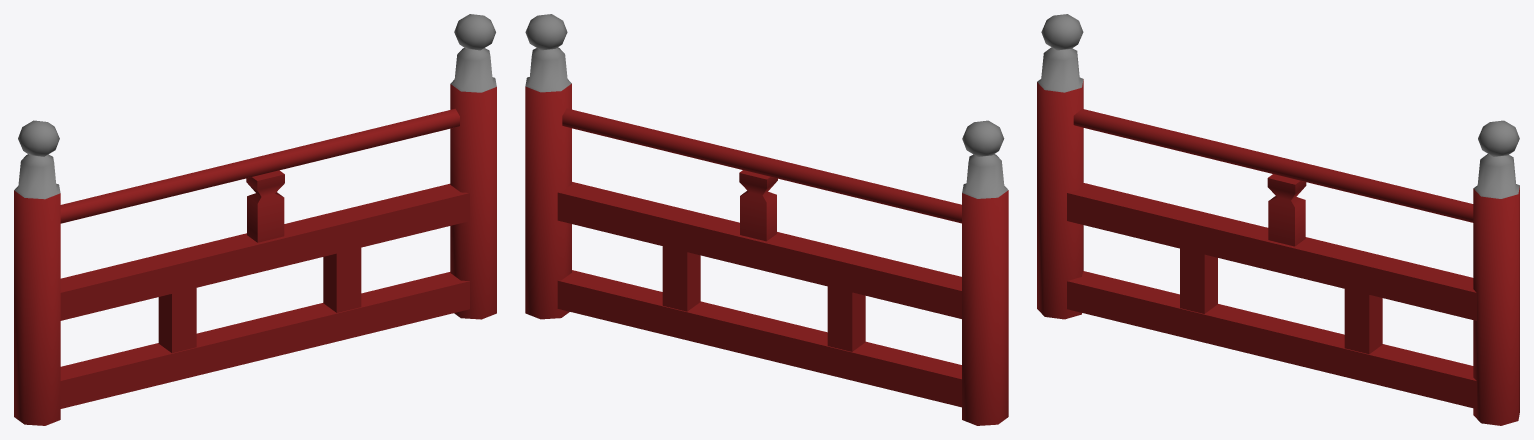
The model's file is SM_fence_japan.fbx.
The picture shows the model from 3 angles, left to right: view 1: azimuth 30°, elevation 25°; view 2: azimuth 150°, elevation 25°; view 3: azimuth 330°, elevation 25°; orthographic projection.
Visible parts, largest first — view 1: Box012; view 2: Box012; view 3: Box012.
Boxes of the visible parts, x1,y1,x2,y2 form: Box012: (14,14,496,425); Box012: (525,14,1008,425); Box012: (1037,14,1519,425).
Bounding box in the file's own units: 89.56 × 52.81 × 7.67.
